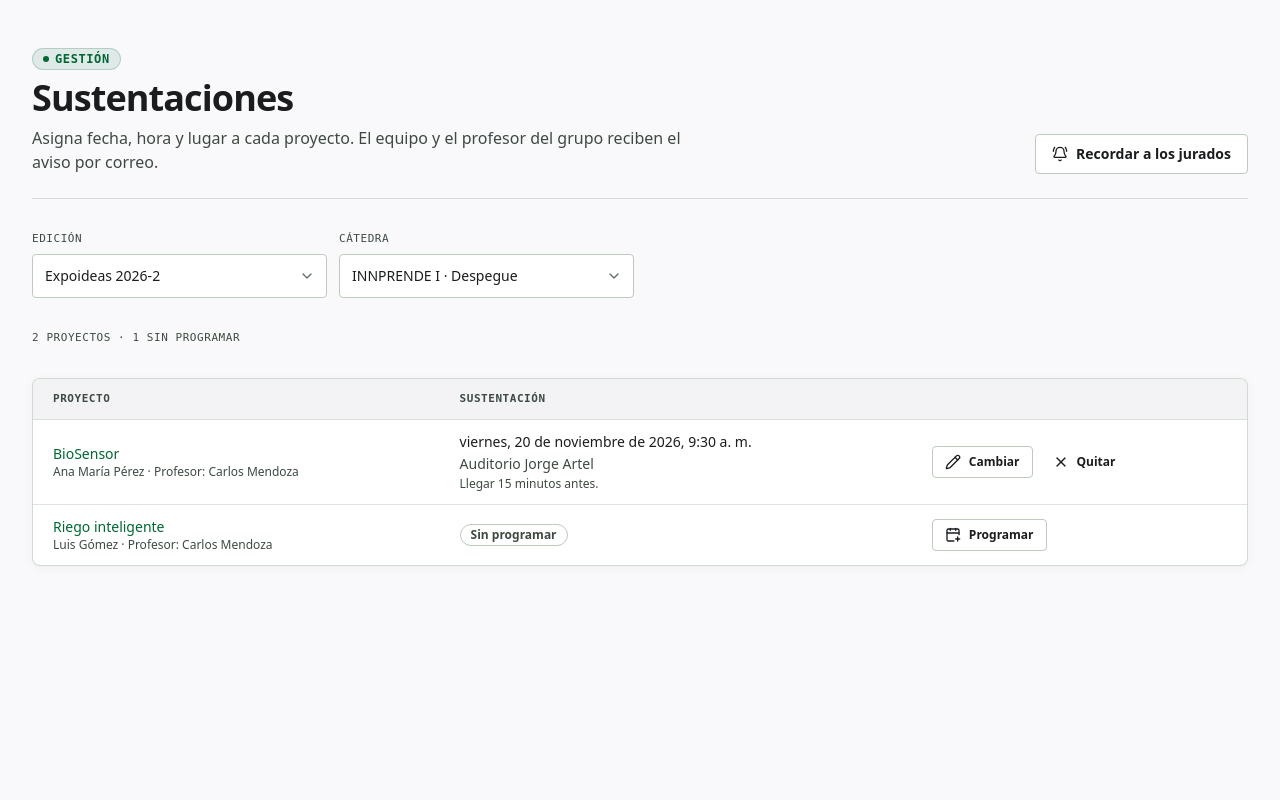
Test: La agenda de sustentaciones › cambia una cita existente con sus datos cargados
The width and height of the screenshot is (1280, 800).
Click the button "Cambiar".
click(982, 462)  # box [932, 446, 1032, 478]
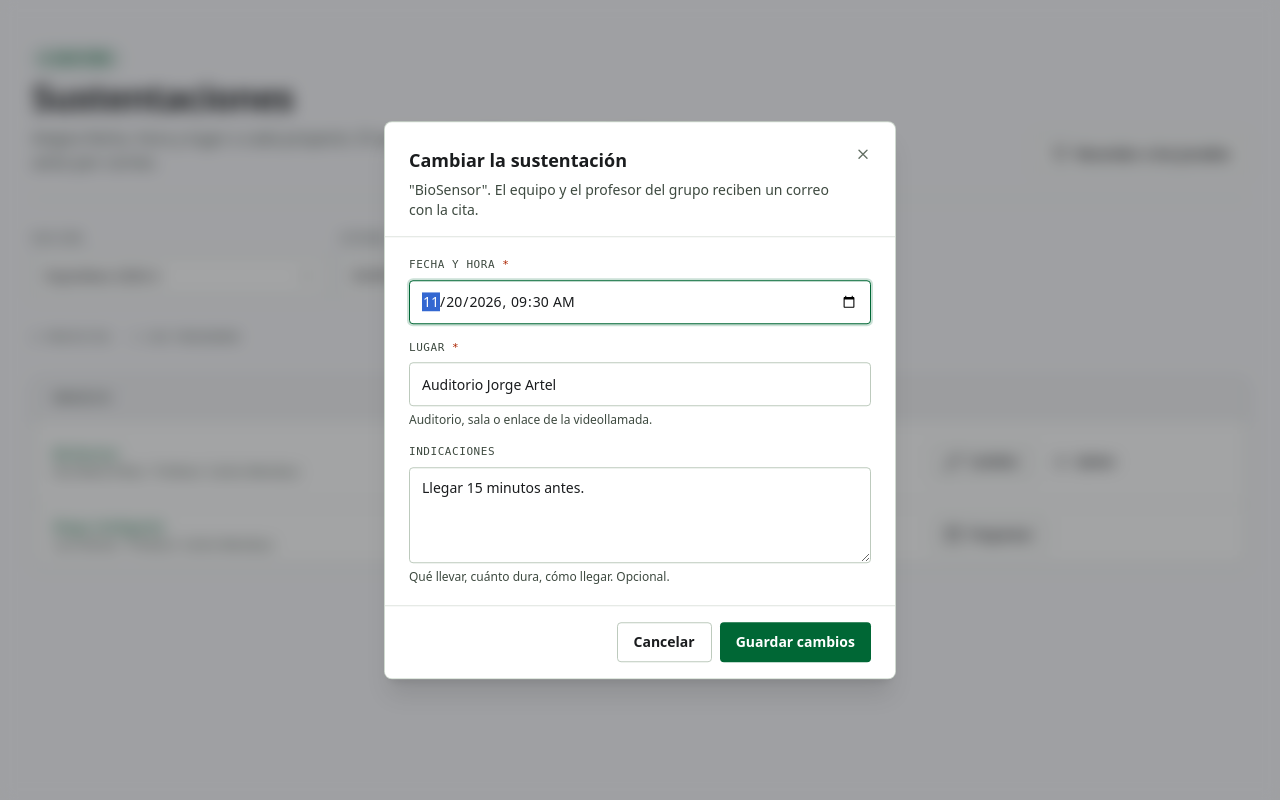
Expected: the field labelled "Fecha y hora *" holds "2026-11-20T09:30", [409, 280, 871, 324]
Expected: the field labelled "Lugar *" holds "Auditorio Jorge Artel", [409, 362, 871, 406]
Expected: the button "Guardar cambios" is shown, [720, 622, 871, 662]
